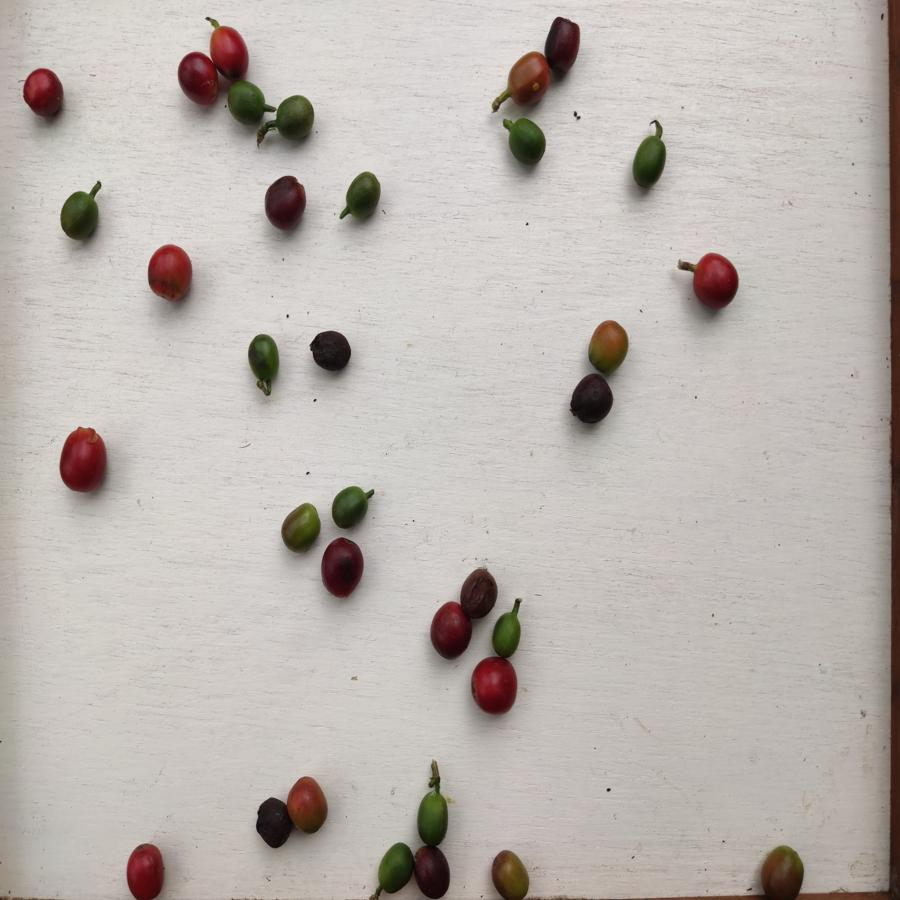Inmaduro: (56, 185, 103, 241), (501, 114, 548, 169), (630, 131, 669, 193), (342, 166, 383, 224), (274, 91, 317, 143), (224, 79, 270, 126), (373, 840, 413, 894), (247, 333, 282, 394), (416, 786, 449, 846), (329, 485, 370, 531), (492, 611, 523, 658)
Maduro: (57, 425, 111, 496), (147, 241, 196, 305), (691, 251, 741, 309), (470, 656, 519, 715), (123, 841, 168, 900), (178, 49, 220, 111), (208, 23, 254, 79), (23, 69, 66, 116)
Pinton: (758, 840, 804, 900), (288, 774, 333, 834), (277, 500, 318, 559), (506, 47, 546, 106), (490, 844, 531, 900), (589, 318, 628, 373)
Sobremaduro: (543, 10, 584, 80), (320, 538, 365, 601), (568, 372, 616, 428), (264, 174, 309, 233), (430, 599, 469, 658), (251, 793, 290, 851), (414, 848, 457, 899), (307, 329, 354, 373), (464, 563, 497, 617)
